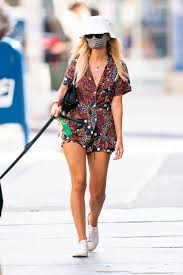mask: (86, 35, 108, 48)
